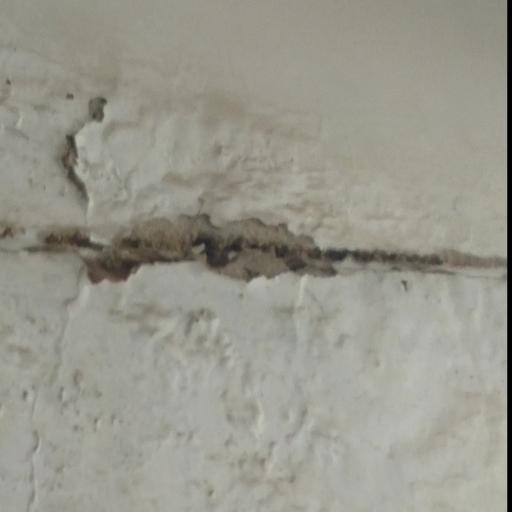spalling: (32, 73, 512, 365)
